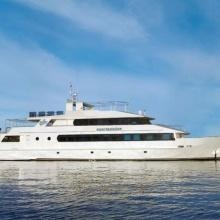yacht: (1, 78, 217, 158)
